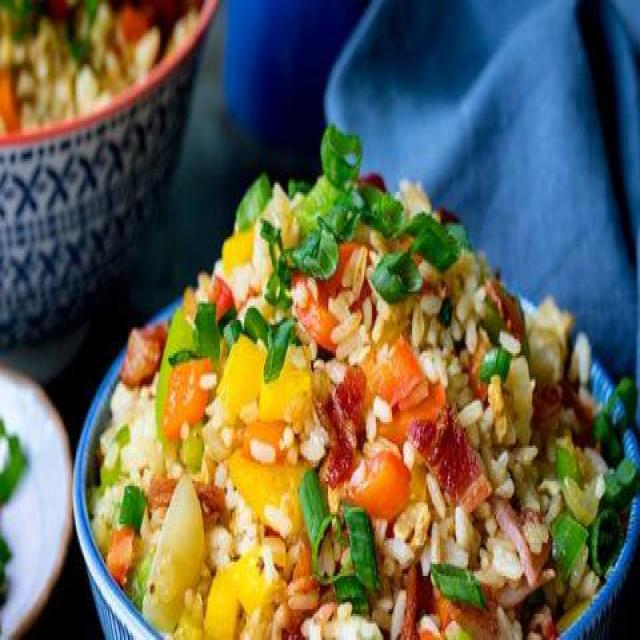Nasi Goreng: (85, 124, 632, 636)
